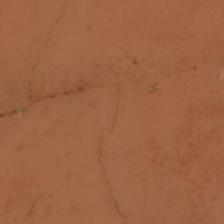Crack: (4, 81, 124, 121), (26, 5, 70, 104), (96, 84, 128, 219)
